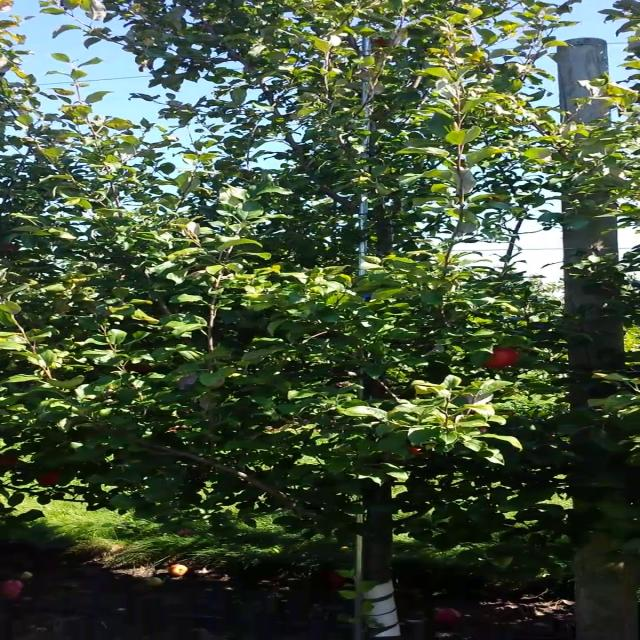apple: (481, 344, 524, 368), (33, 468, 59, 486), (372, 38, 392, 48), (408, 446, 428, 455), (0, 455, 14, 466)
